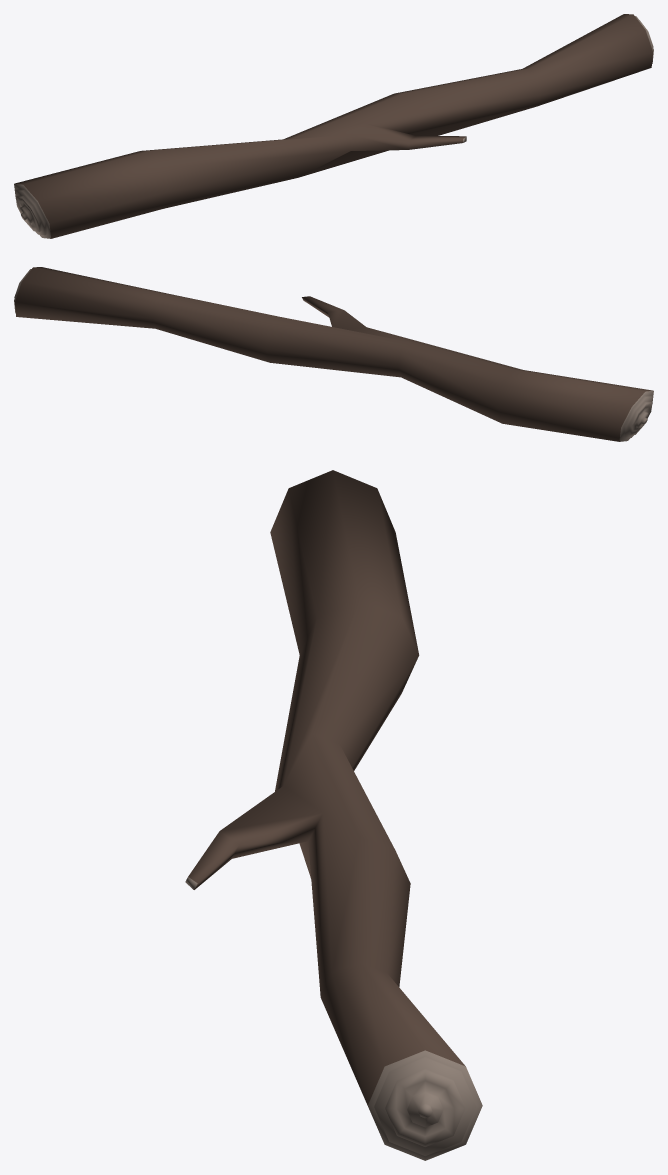
The model's file is Msh_wooden_stick_6_Env.fbx.
3 renders of one model, top to bottom at view 1: azimuth 30°, elevation 25°; view 2: azimuth 150°, elevation 25°; view 3: azimuth 270°, elevation 25°, orthographic. The views are drawn at different scales.
Parts seen in each view (by area): view 1: wooden_stick_6; view 2: wooden_stick_6; view 3: wooden_stick_6.
Boxes of the visible parts, x1,y1,x2,y2 form: wooden_stick_6: (14,14,653,238); wooden_stick_6: (14,267,653,441); wooden_stick_6: (185,470,482,1160).
Bounding box in the file's own units: 74.51 × 15.88 × 6.86.
